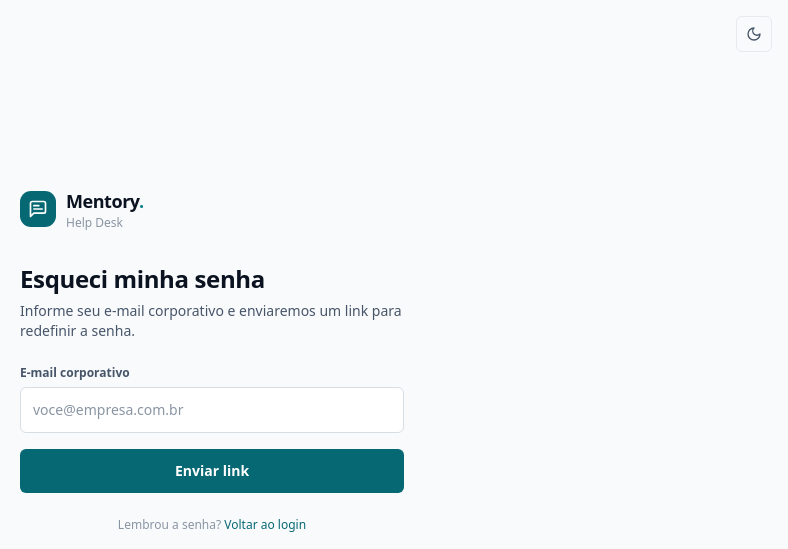
Test: EsqueciSenhaPage (F7.1) › envia o e-mail e mostra a confirmação genérica
Step 1. Type "ana@empresa.com.br" into the field labelled "E-mail corporativo" → (212, 410), box [20,387,404,433]
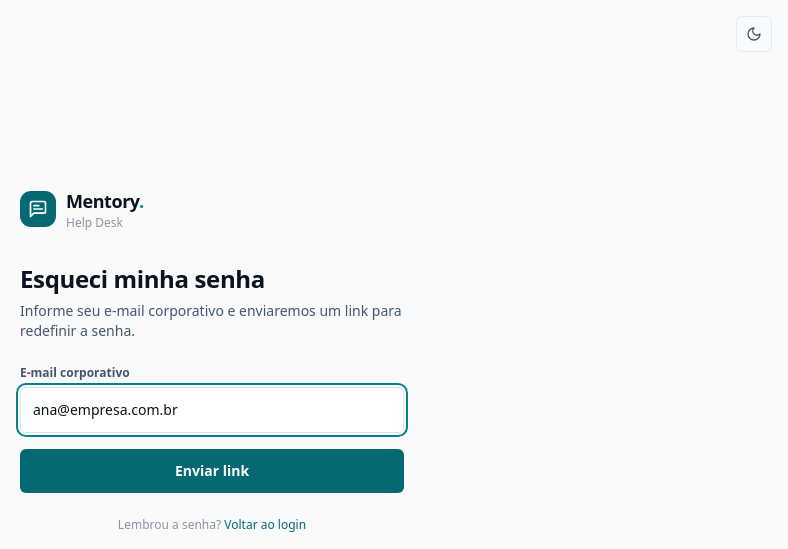
Step 2. Click the button "Enviar link" → (212, 471), box [20,449,404,493]
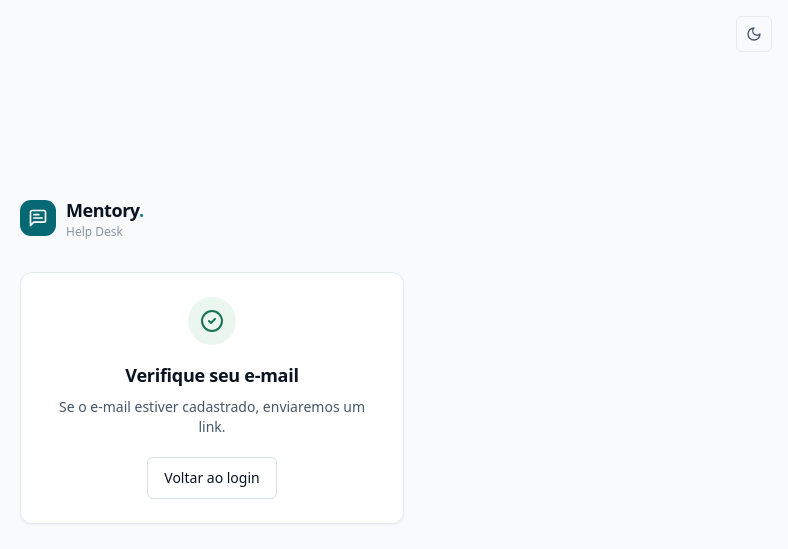
Expected: the heading "Verifique seu e-mail" is shown, [125,363,299,387]
